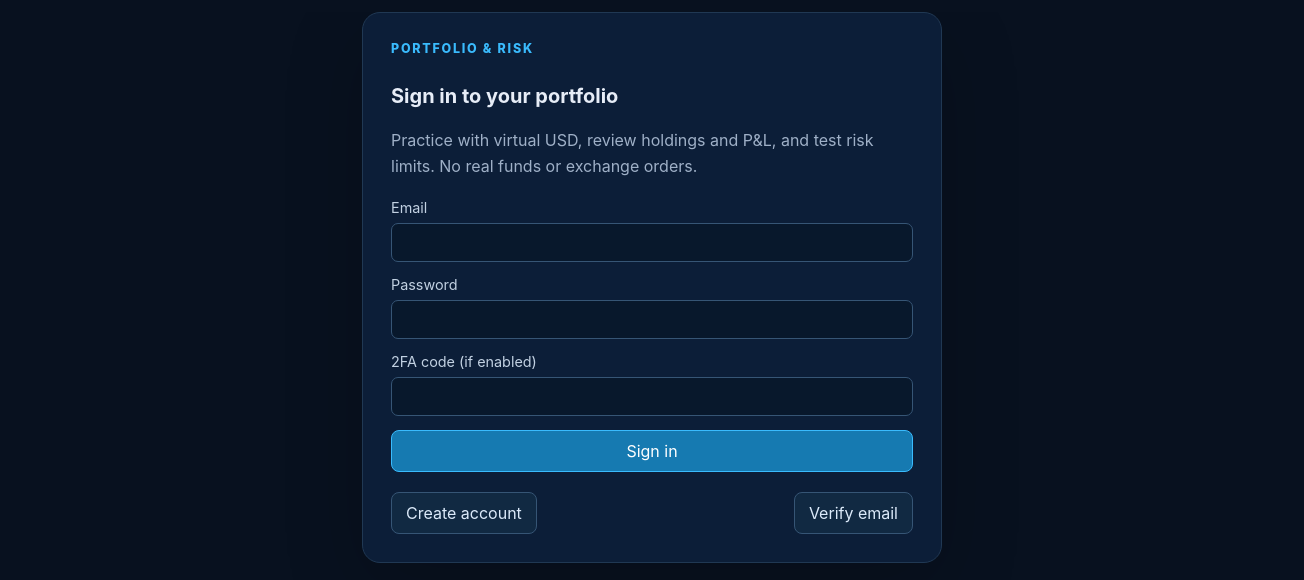
Test case: signs in without storing tokens and clears the portfolio on sign out
The width and height of the screenshot is (1304, 580).
Type "user@example.com" into the field labelled "Email" at [652, 243], box [391,223,913,262]
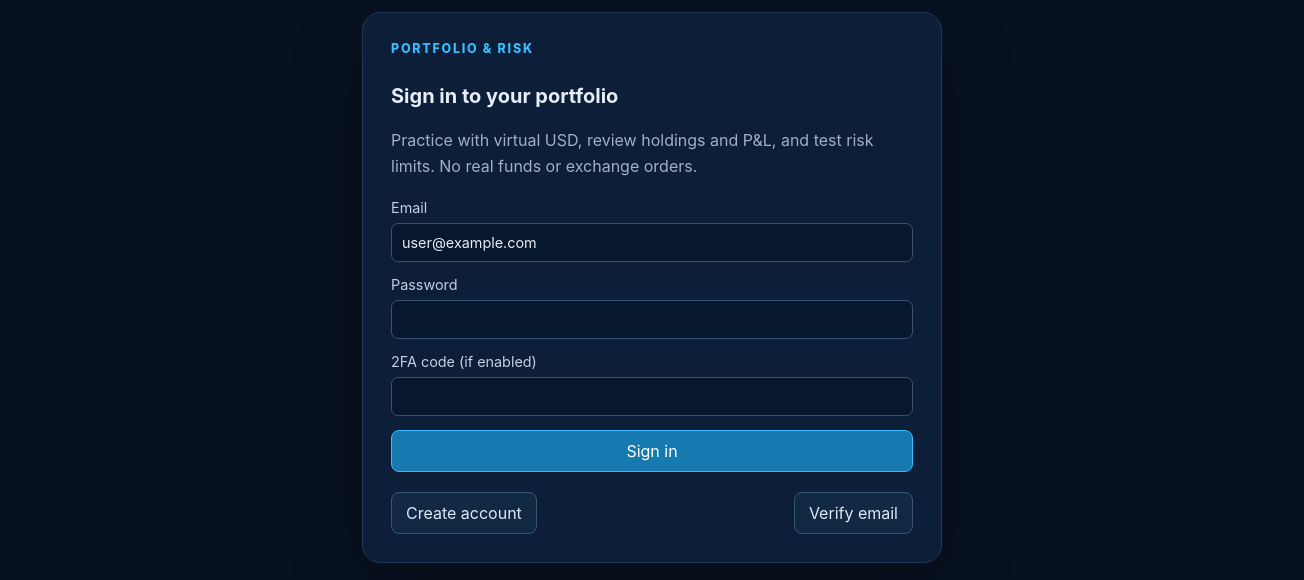
Type "example-password" into the password field labelled "Password" at [652, 320], box [391,300,913,339]
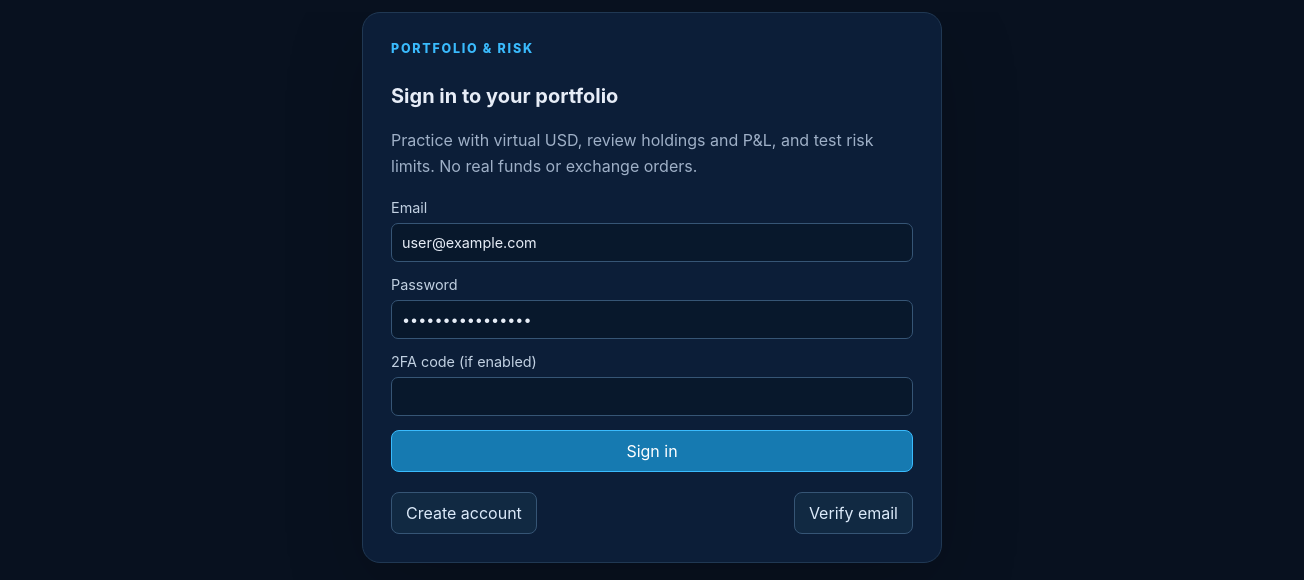
Click the button "Sign in" at [652, 451], box [391,430,913,472]
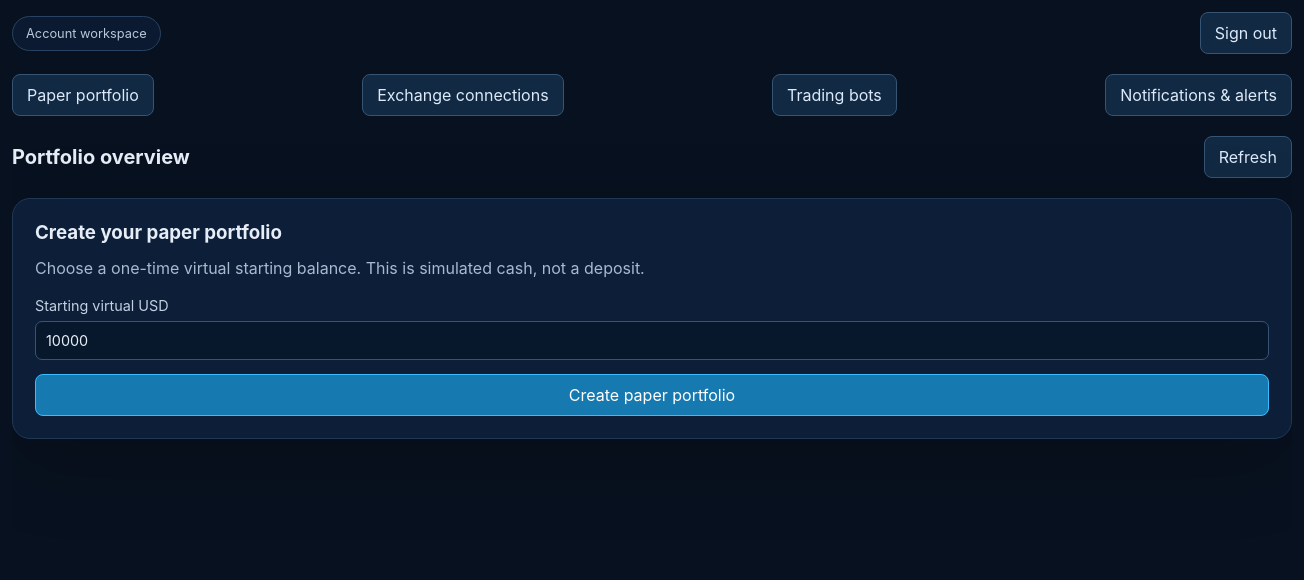
Check: the button "Create paper portfolio" is shown, box [35,374,1269,416]
Click the button "Sign out" at [1246, 33], box [1200,12,1292,54]
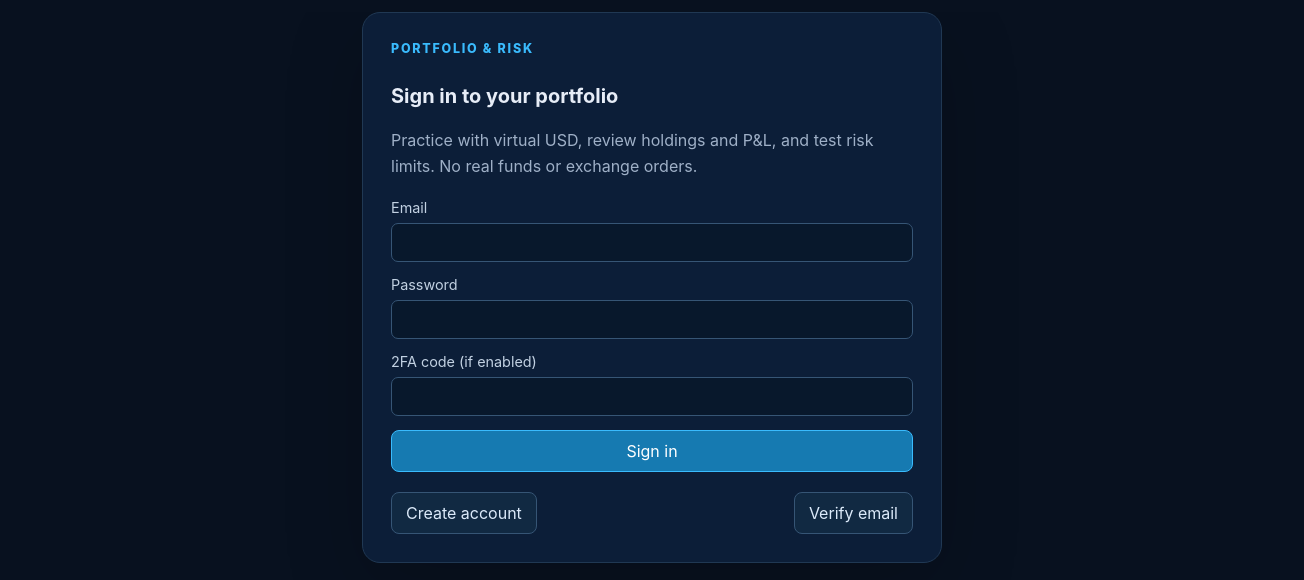
Check: the button "Sign in" is shown, box [391,430,913,472]
Check: the heading "Portfolio overview" is gone
